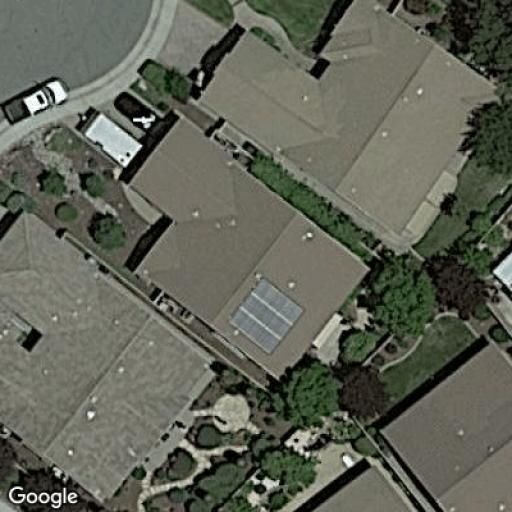solar-panel: (226, 272, 306, 356)
